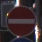No entry: (5, 5, 37, 37)
